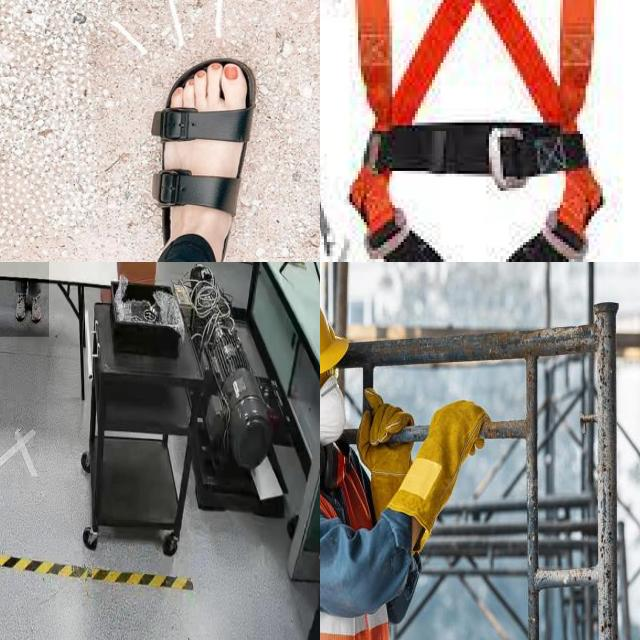Ear-protection: (320, 424, 350, 487)
Harness: (353, 0, 604, 262)
Sandals: (149, 56, 257, 262)
glasses: (320, 363, 346, 400)
hand_glove: (389, 393, 496, 551), (352, 382, 411, 522)
head_helmet: (320, 274, 351, 388)
person: (320, 274, 506, 640), (0, 262, 49, 337)
shoes: (12, 286, 28, 324), (29, 290, 43, 327)
